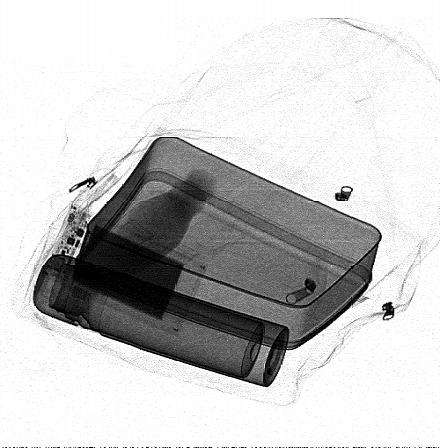Powerbank: (41, 201, 208, 334)
